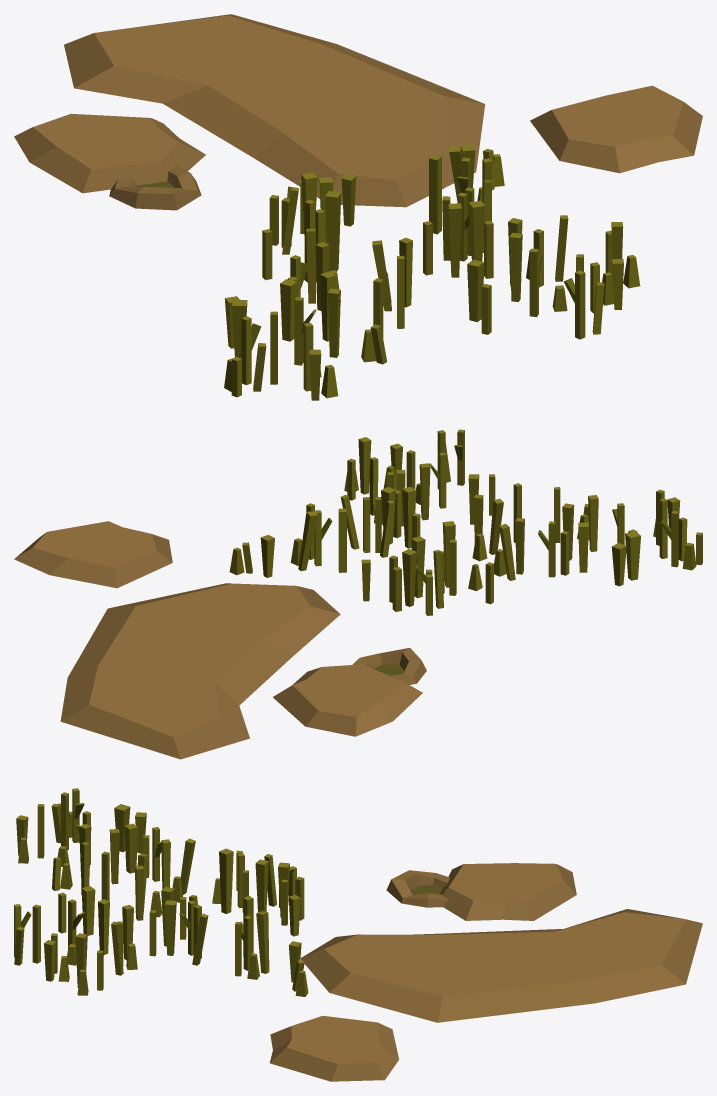
Rendered from SF_Env_Swamp_Preset_09.FBX.
3 renders of one model, top to bottom at view 1: azimuth 30°, elevation 25°; view 2: azimuth 150°, elevation 25°; view 3: azimuth 270°, elevation 25°, orthographic. The views are drawn at different scales.
Visible parts, largest first — view 1: SF_Env_Swamp_Preset_09_Elements1, SF_Env_Swamp_Preset_09_Elements3, SF_Env_Swamp_Preset_09_Elements2, SF_Env_Swamp_Preset_09_Elements33, SF_Env_Swamp_Preset_09_Elements52, SF_Env_Swamp_Preset_09_Elements17, SF_Env_Swamp_Preset_09_Elements79, SF_Env_Swamp_Preset_09_Elements47, SF_Env_Swamp_Preset_09_Elements55, SF_Env_Swamp_Preset_09_Elements78, SF_Env_Swamp_Preset_09_Elements16, SF_Env_Swamp_Preset_09_Elements24 (+11 smaller); view 2: SF_Env_Swamp_Preset_09_Elements1, SF_Env_Swamp_Preset_09_Elements3, SF_Env_Swamp_Preset_09_Elements2, SF_Env_Swamp_Preset_09_Elements34, SF_Env_Swamp_Preset_09_Elements73, SF_Env_Swamp_Preset_09_Elements44, SF_Env_Swamp_Preset_09_Elements47, SF_Env_Swamp_Preset_09_Elements58, SF_Env_Swamp_Preset_09_Elements52, SF_Env_Swamp_Preset_09_Elements27, SF_Env_Swamp_Preset_09_Elements78, SF_Env_Swamp_Preset_09_Elements70 (+5 smaller); view 3: SF_Env_Swamp_Preset_09_Elements1, SF_Env_Swamp_Preset_09_Elements3, SF_Env_Swamp_Preset_09_Elements2, SF_Env_Swamp_Preset_09_Elements33, SF_Env_Swamp_Preset_09_Elements44, SF_Env_Swamp_Preset_09_Elements27, SF_Env_Swamp_Preset_09_Elements79, SF_Env_Swamp_Preset_09_Elements17, SF_Env_Swamp_Preset_09_Elements16, SF_Env_Swamp_Preset_09_Elements55, SF_Env_Swamp_Preset_09_Elements13, SF_Env_Swamp_Preset_09_Elements70 (+6 smaller).
Boxes of the visible parts, x1,y1,x2,y2 form: SF_Env_Swamp_Preset_09_Elements1: (64,14,485,207); SF_Env_Swamp_Preset_09_Elements3: (14,113,205,210); SF_Env_Swamp_Preset_09_Elements2: (530,85,702,173); SF_Env_Swamp_Preset_09_Elements33: (325,191,341,271); SF_Env_Swamp_Preset_09_Elements52: (429,155,441,234); SF_Env_Swamp_Preset_09_Elements17: (467,259,484,322); SF_Env_Swamp_Preset_09_Elements79: (280,279,297,341); SF_Env_Swamp_Preset_09_Elements47: (448,203,461,277); SF_Env_Swamp_Preset_09_Elements55: (468,200,485,261); SF_Env_Swamp_Preset_09_Elements78: (327,288,340,357); SF_Env_Swamp_Preset_09_Elements16: (509,232,522,301); SF_Env_Swamp_Preset_09_Elements24: (575,270,585,339); SF_Env_Swamp_Preset_09_Elements1: (60,583,340,759); SF_Env_Swamp_Preset_09_Elements3: (273,648,426,736); SF_Env_Swamp_Preset_09_Elements2: (14,521,172,588); SF_Env_Swamp_Preset_09_Elements34: (402,549,417,606); SF_Env_Swamp_Preset_09_Elements73: (625,531,640,580); SF_Env_Swamp_Preset_09_Elements44: (298,511,317,571); SF_Env_Swamp_Preset_09_Elements47: (402,486,416,548); SF_Env_Swamp_Preset_09_Elements58: (358,437,371,494); SF_Env_Swamp_Preset_09_Elements52: (338,508,346,572); SF_Env_Swamp_Preset_09_Elements27: (411,536,425,598); SF_Env_Swamp_Preset_09_Elements78: (588,495,598,551); SF_Env_Swamp_Preset_09_Elements70: (499,523,515,580); SF_Env_Swamp_Preset_09_Elements1: (300,909,702,1022); SF_Env_Swamp_Preset_09_Elements3: (386,863,576,920); SF_Env_Swamp_Preset_09_Elements2: (269,1015,398,1081); SF_Env_Swamp_Preset_09_Elements33: (219,848,233,913); SF_Env_Swamp_Preset_09_Elements44: (256,911,269,973); SF_Env_Swamp_Preset_09_Elements27: (255,859,268,912); SF_Env_Swamp_Preset_09_Elements79: (124,823,138,873); SF_Env_Swamp_Preset_09_Elements17: (81,886,95,935); SF_Env_Swamp_Preset_09_Elements16: (98,899,109,954); SF_Env_Swamp_Preset_09_Elements55: (164,900,176,955); SF_Env_Swamp_Preset_09_Elements13: (32,904,40,963); SF_Env_Swamp_Preset_09_Elements70: (180,838,195,894).
Size of the model in its own units: 20.48 by 2.32 by 23.9.
